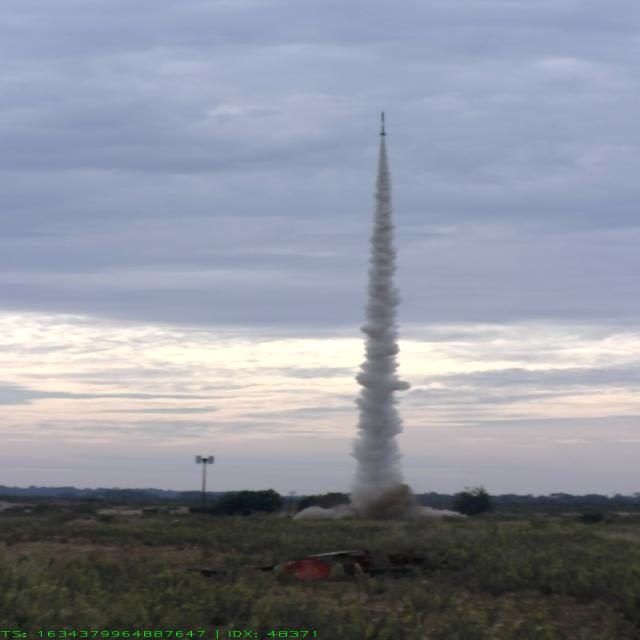Rocket: (378, 110, 386, 136)
